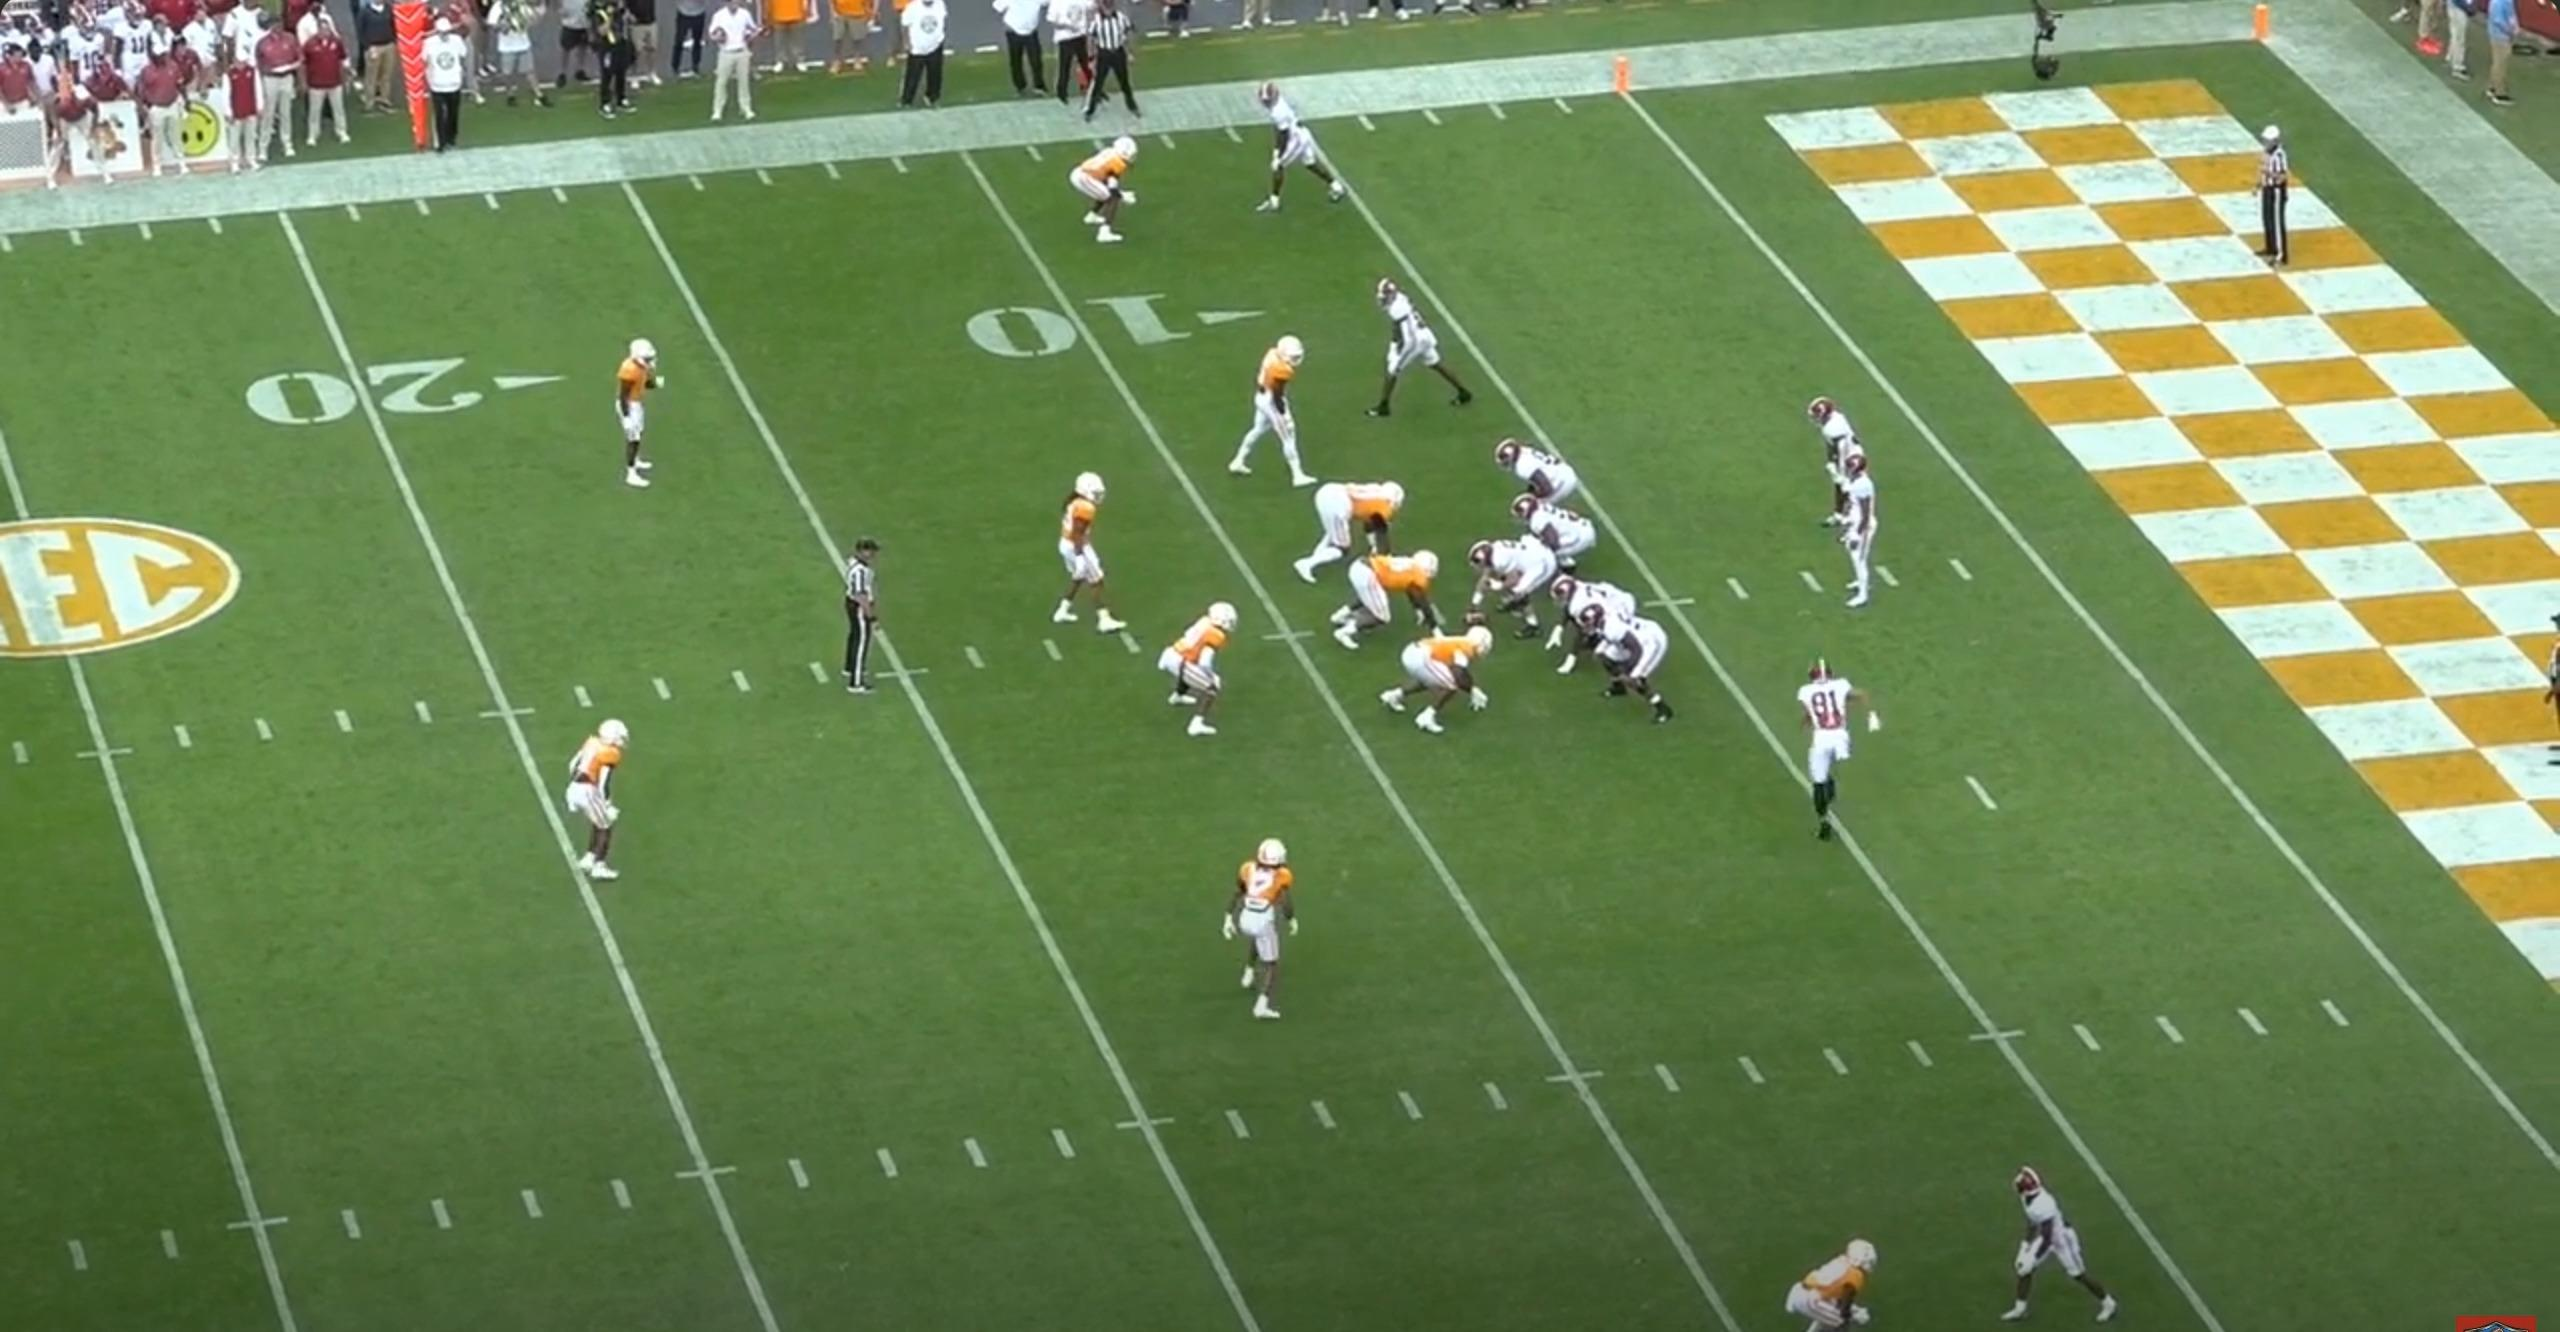player: (2002, 1168, 2135, 1332), (1377, 277, 1489, 426), (1230, 829, 1312, 1021), (1249, 86, 1355, 223), (1238, 328, 1326, 489), (1785, 653, 1857, 846), (1057, 470, 1137, 643), (1295, 479, 1418, 590), (1385, 628, 1506, 739), (1328, 545, 1451, 652), (554, 713, 627, 887), (1164, 602, 1245, 754), (1586, 611, 1683, 732), (1455, 541, 1560, 646), (604, 332, 667, 503), (1828, 459, 1891, 618), (1555, 569, 1647, 677), (1785, 1232, 1884, 1331), (1512, 493, 1605, 584), (1078, 135, 1149, 252), (1799, 397, 1853, 543), (1495, 435, 1586, 514)
ref: (835, 541, 897, 709), (1089, 4, 1153, 133), (2254, 118, 2303, 271)
